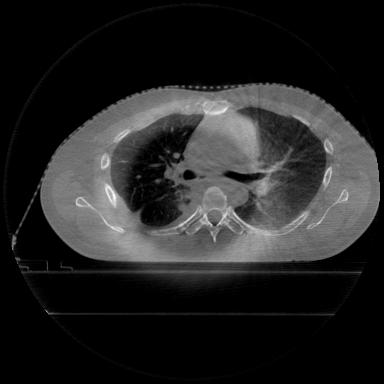body: (38, 85, 380, 263)
cord: (181, 188, 244, 240)
paru kanan: (111, 114, 202, 225)
paru kiri: (236, 107, 327, 230)
